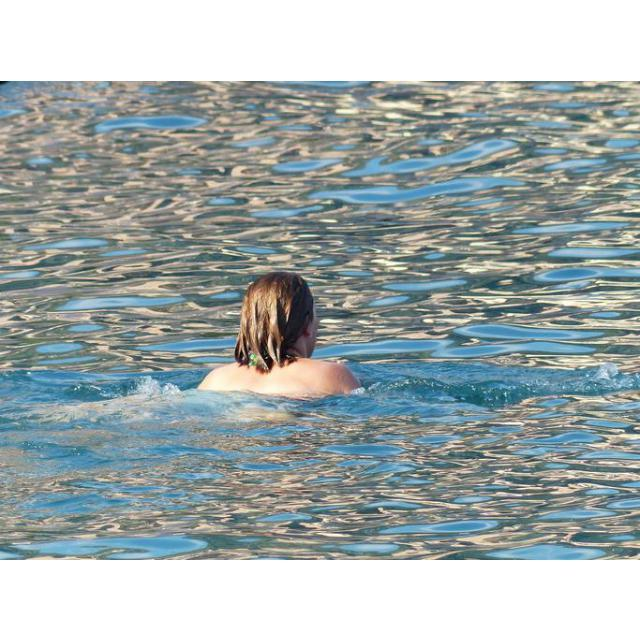human: (195, 269, 364, 401)
